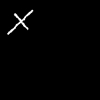single_crochet: (8, 10, 32, 33)
